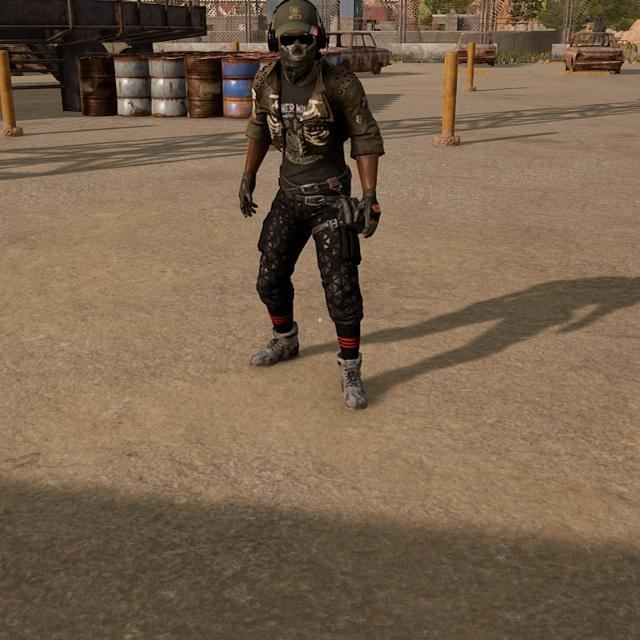head: (262, 0, 328, 74)
people: (236, 0, 387, 411)
